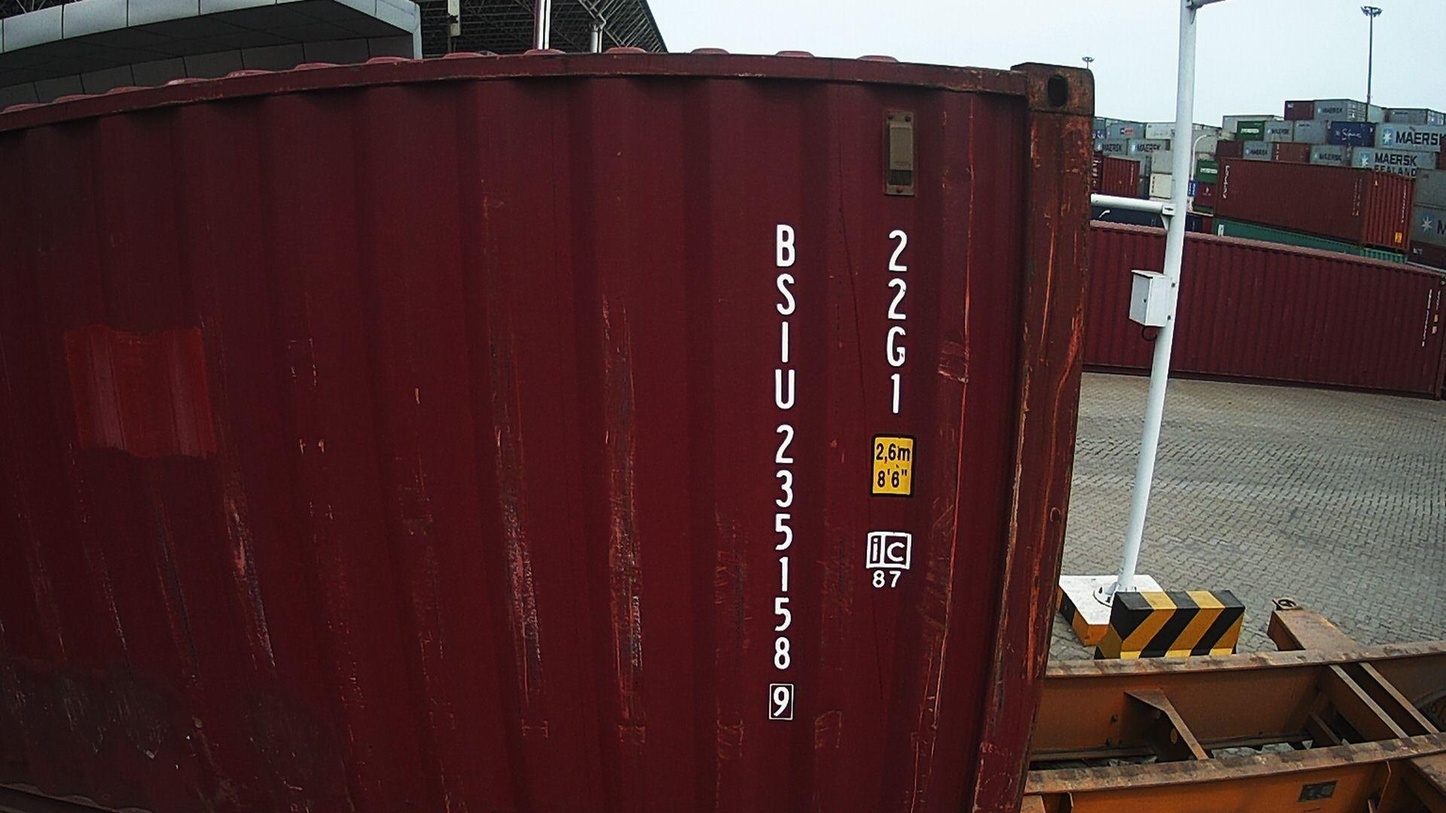container-numbers: (761, 216, 805, 728), (877, 226, 916, 421)
